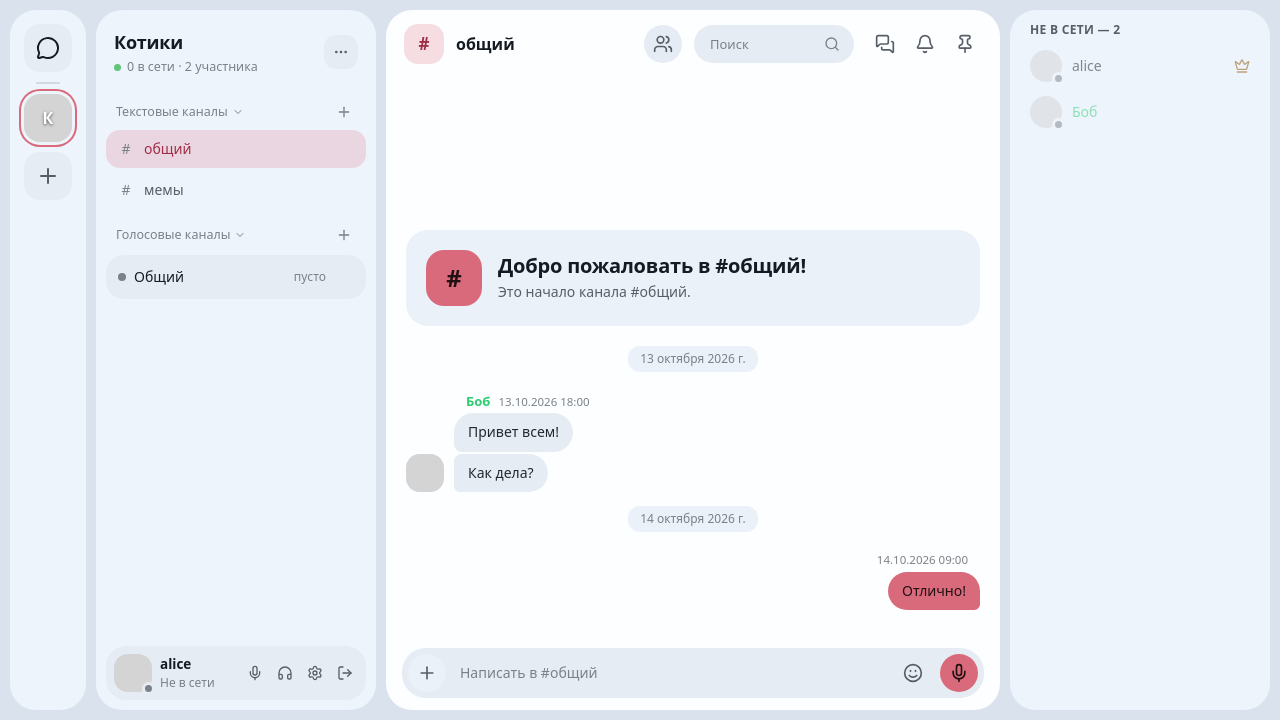
Test case: moderating from a profile card › offers no timeout for administrators, whom it would not affect
Click the button with aria-label "Боб,": coordinates (1140, 112) x1=1022 y1=90 x2=1258 y2=134
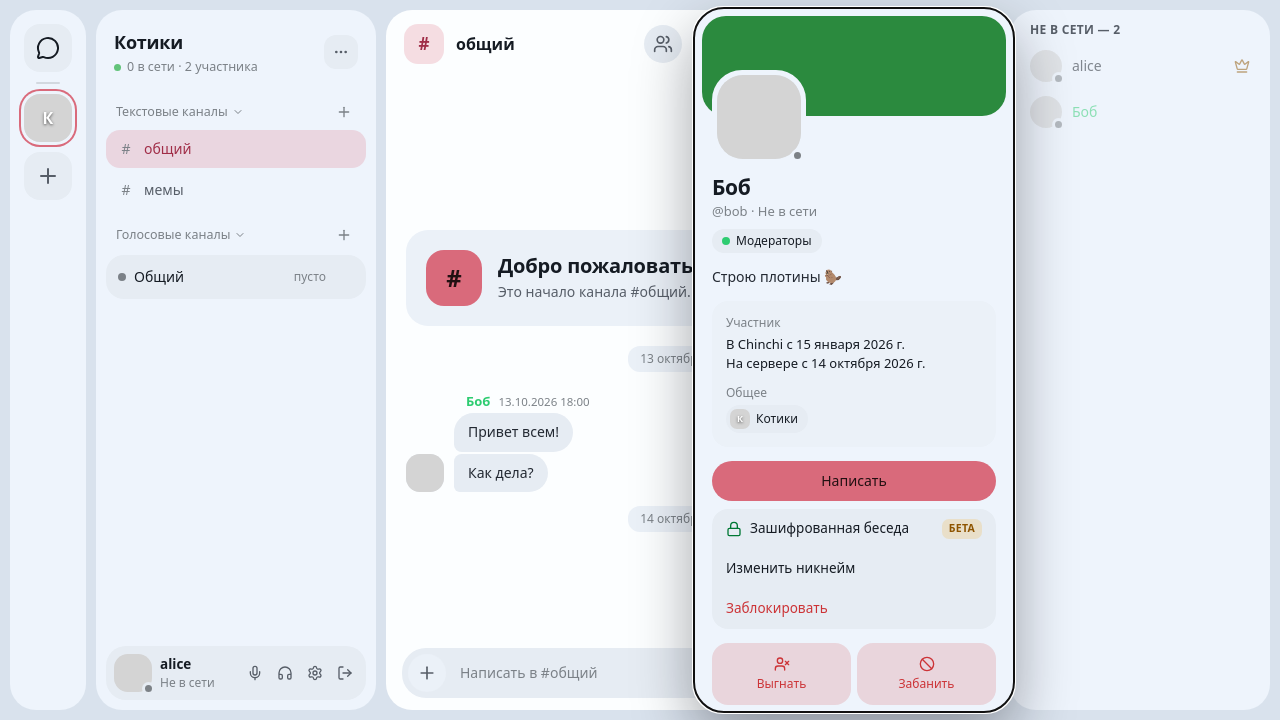
Expected: the button "Выгнать" is shown, x1=712 y1=643 x2=851 y2=705
